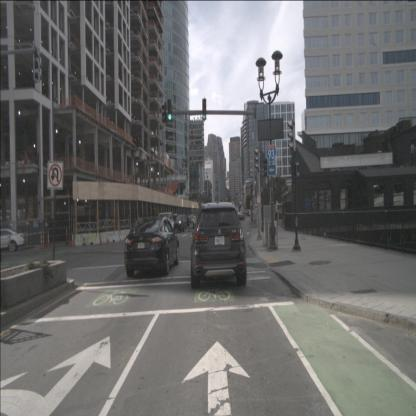barrier: (74, 232, 100, 247), (99, 230, 121, 244), (118, 229, 138, 242)
cone: (8, 232, 12, 254), (40, 229, 43, 250), (47, 229, 50, 249), (42, 231, 45, 249), (26, 233, 29, 248), (66, 226, 68, 245), (72, 235, 74, 248)
